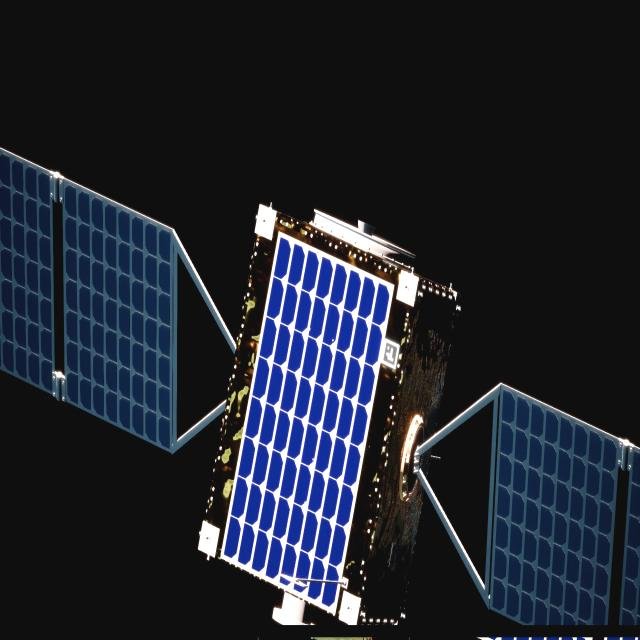satellite: (0, 148, 640, 640)
